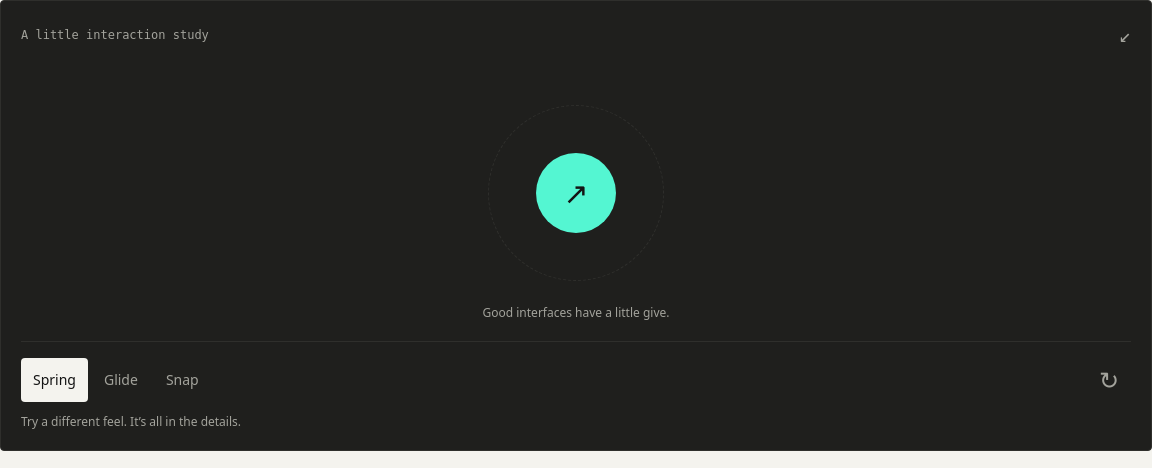
Scenario: GIVEN the MotionStudy component › WHEN the person picks the snap style › THEN it is expected to mark snap as pressed and describe it
Click the button "Snap".
click(182, 380)  # box [154,358,211,402]
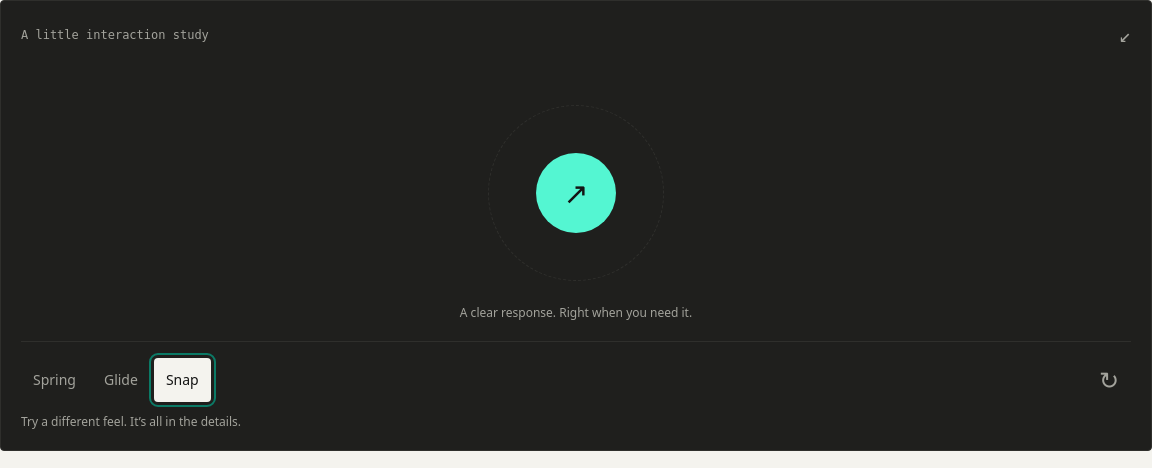
Result: the text "A clear response. Right when you need it." is shown at [460,305,692,321]
